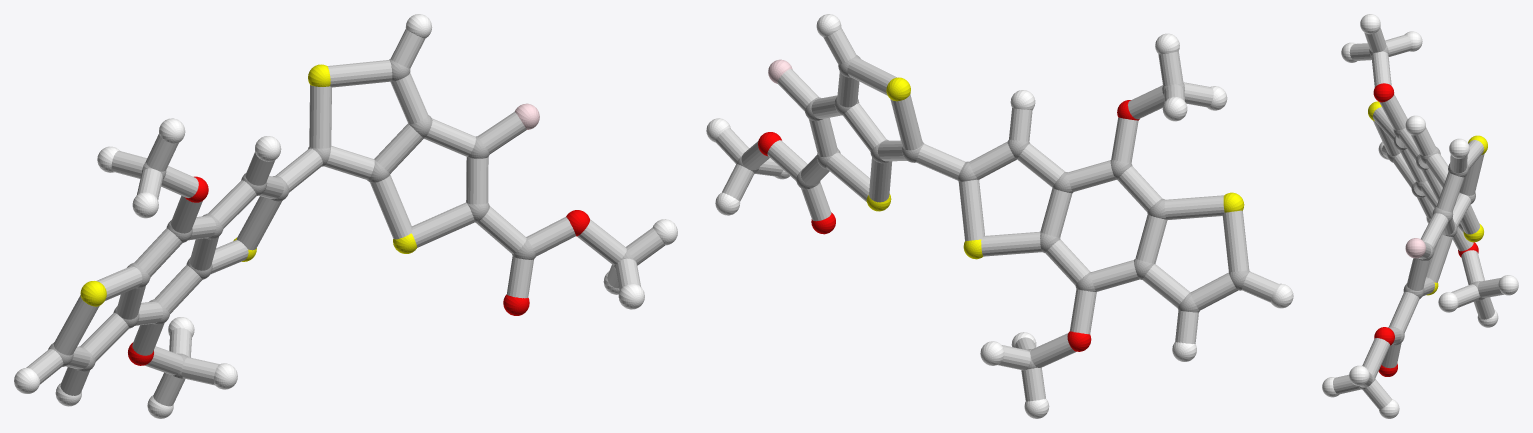
Rendered from Dimethoxy_Benzodithiophene_Phi_25_Theta_310_Methylcarbonyl_3_Fluoro_Thienothiophene.glb.
3 views of the same model, side by side, from view 1: azimuth 30°, elevation 25°; view 2: azimuth 150°, elevation 25°; view 3: azimuth 270°, elevation 25° (orthographic). The views are drawn at different scales.
Visible parts, largest first — view 1: grp15205, grp8689, grp1, grp13395, grp7241; view 2: grp15205, grp8689, grp1, grp7241, grp13395; view 3: grp15205, grp8689, grp1, grp13395, grp7241, grp14843.
Part boxes in pixels (x1,y1,x2,y2): grp15205: [26, 29, 664, 406]; grp8689: [14, 14, 677, 418]; grp1: [48, 58, 637, 378]; grp13395: [128, 176, 589, 365]; grp7241: [80, 64, 417, 306]; grp15205: [715, 27, 1278, 401]; grp8689: [706, 14, 1293, 418]; grp1: [736, 55, 1249, 369]; grp7241: [866, 77, 1244, 259]; grp13395: [758, 100, 1139, 351]; grp15205: [1333, 27, 1503, 409]; grp8689: [1322, 14, 1518, 418]; grp1: [1358, 45, 1484, 389]; grp13395: [1373, 83, 1478, 376]; grp7241: [1368, 101, 1487, 295]; grp14843: [1405, 238, 1425, 258].
Size of the model in its own units: 16.8 by 9.23 by 5.72.
